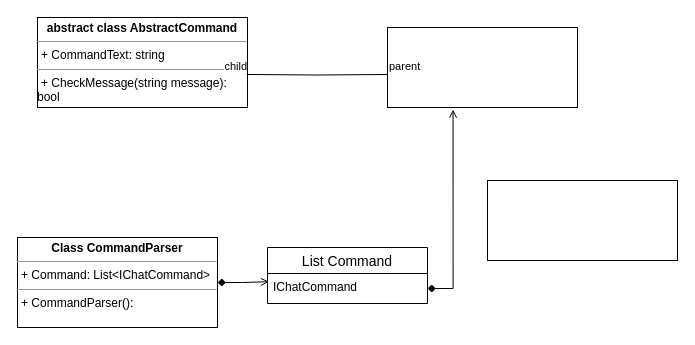
The diagram is 695 pixels wide and 345 high, and some of its shapes have lost their labels. The shapes that lost their labels are listed below. From the top down, each one's centre as x and y in pixels, then its label:
[482,67]: <<IChatCommand>> Interface + CheckMessage(string): bool
[582,220]: <<IChatTextCommand>> Interface + ReturnText(): string
